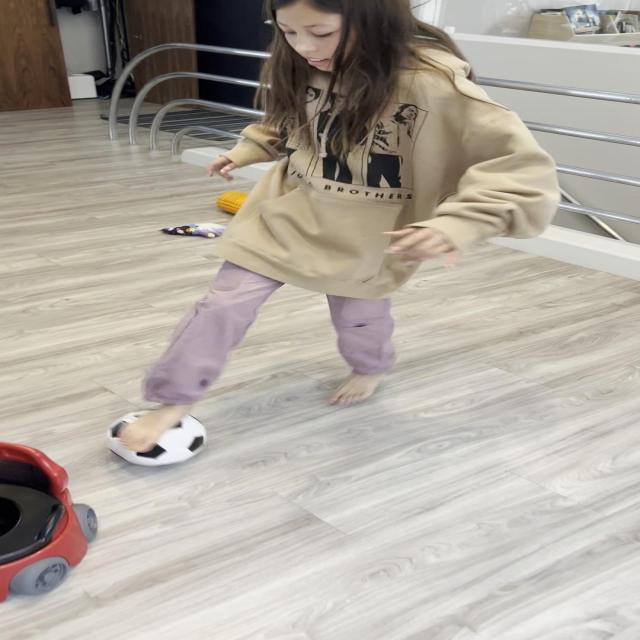Soccer Ball: (102, 408, 217, 471)
